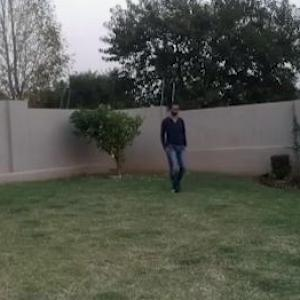follow: (159, 98, 190, 196)
